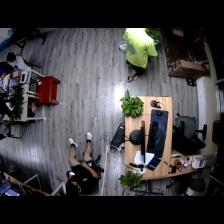normal: (68, 134, 101, 194), (121, 27, 154, 81), (6, 53, 32, 73)
